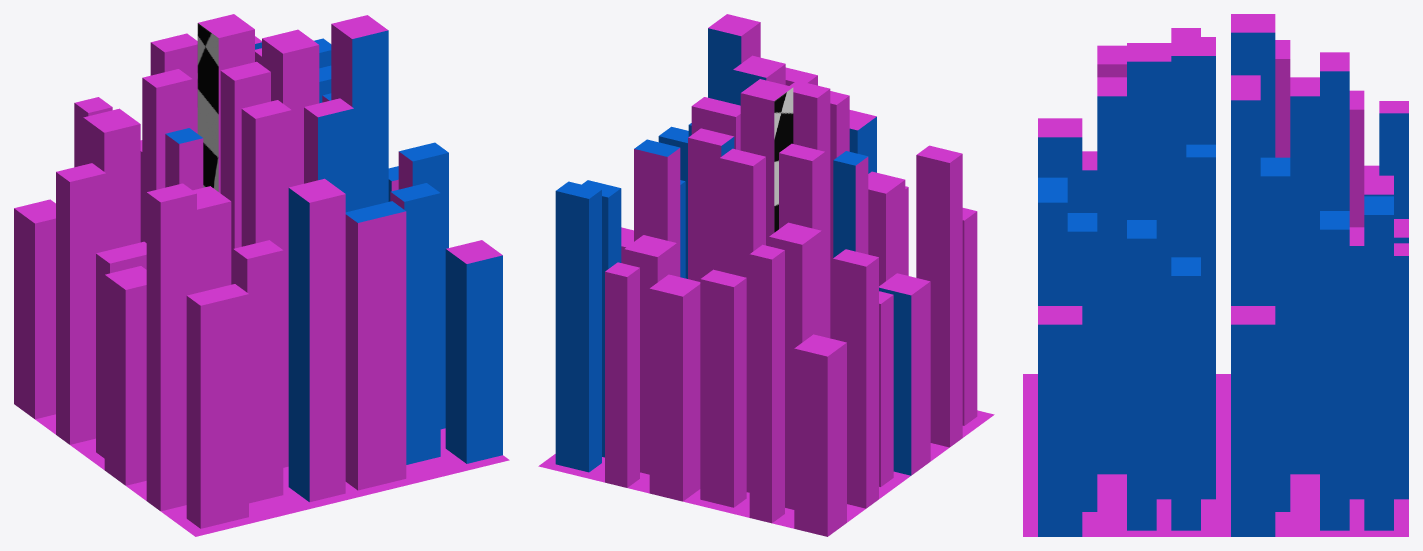
The picture shows the model from 3 angles, left to right: view 1: azimuth 30°, elevation 25°; view 2: azimuth 150°, elevation 25°; view 3: azimuth 270°, elevation 25°; orthographic projection. The views are drawn at different scales.
Parts seen in each view (by area): view 1: Scene; view 2: Scene; view 3: Scene.
Part boxes in pixels (left/top/right/bottom): Scene: left=14, top=14, right=509, bottom=536; Scene: left=538, top=14, right=994, bottom=536; Scene: left=1023, top=14, right=1408, bottom=536.
Bounding box in the file's own units: 120 × 150 × 120.
Materials: 3 (1 with a texture image).
